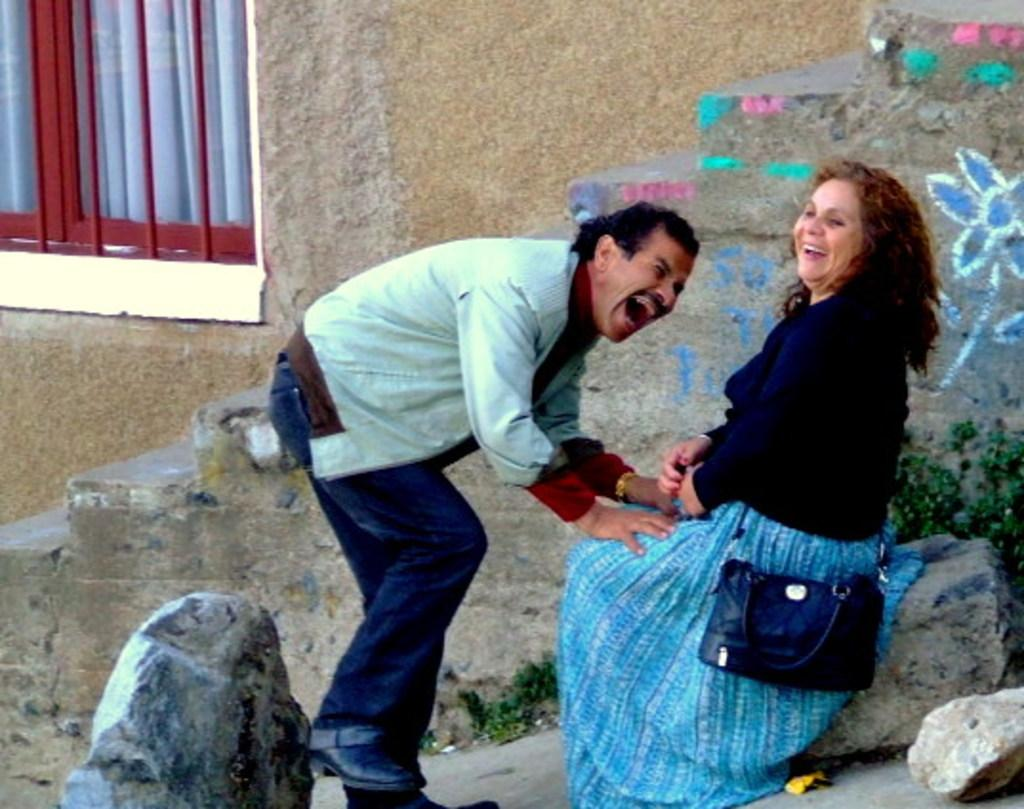Luggage-and-bags: (686, 527, 904, 708)
